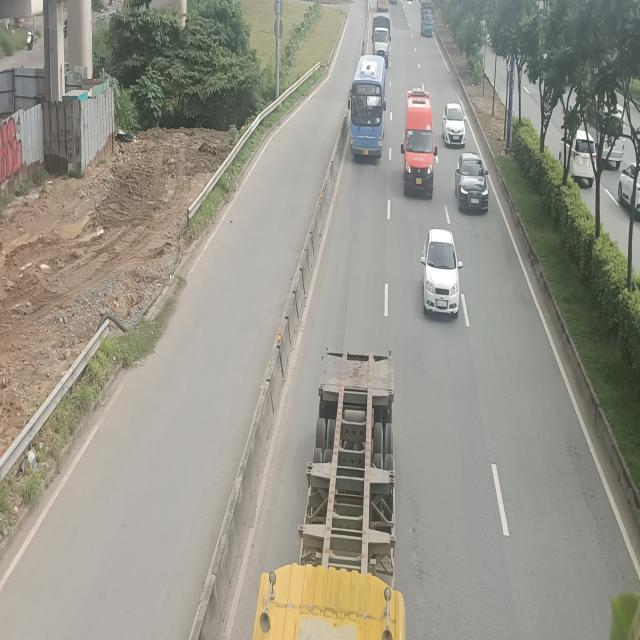car: (421, 229, 463, 313), (454, 152, 490, 212), (442, 101, 467, 148)
coach: (347, 53, 387, 159)
container: (253, 348, 407, 640)
truck: (372, 14, 392, 67)
van: (401, 87, 435, 195)
